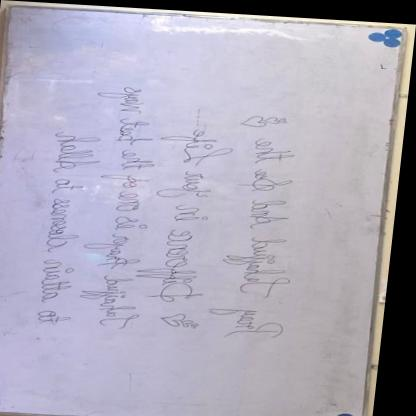Handwritten text: (83, 77, 167, 342), (217, 132, 311, 341), (146, 127, 235, 302), (36, 130, 99, 329)
Whiteboard: (0, 3, 412, 416)
